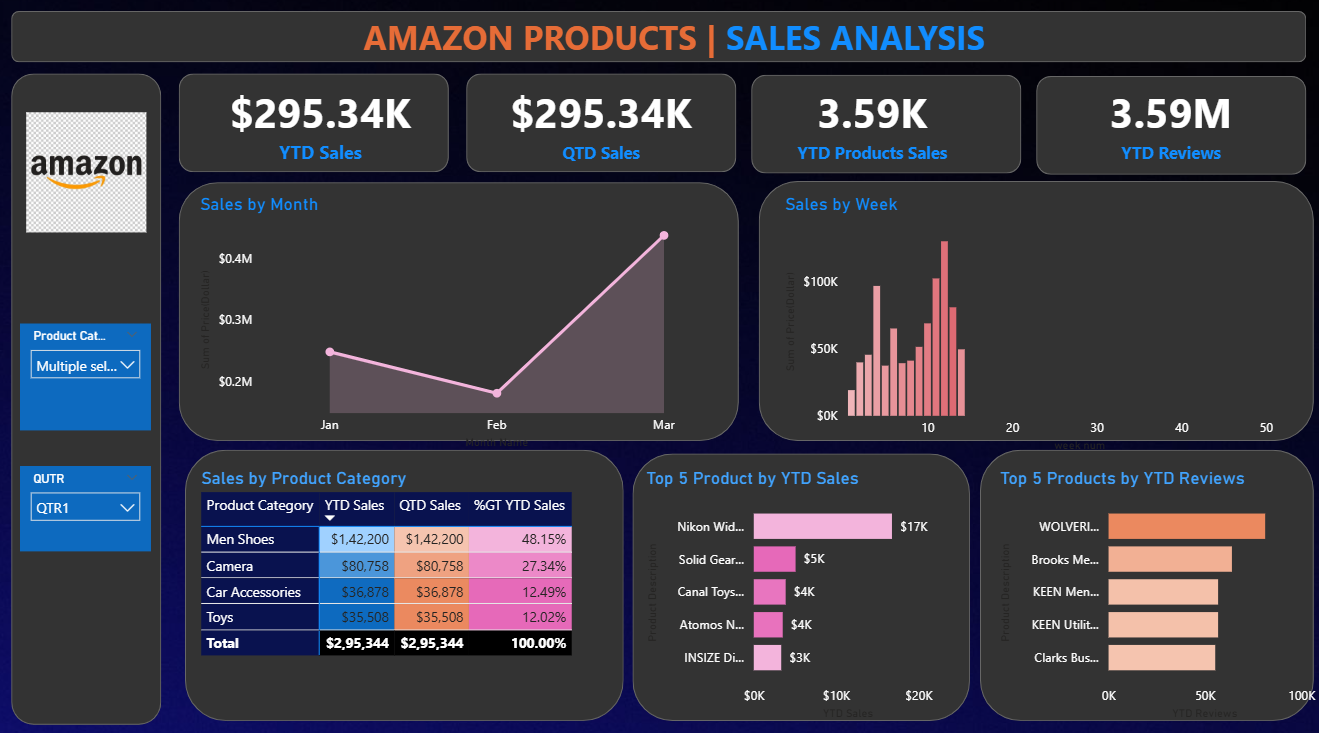

The dashboard page shown, as its layout file describes it:
{"tool":"powerbi","page":{"name":"Page 1","canvas":[1280,720],"ordinal":0},"visuals":[{"type":"shape","box":[15.7,14.5,1249.9,49.5],"z":0},{"type":"textbox","box":[334.2,13.3,643,54.3],"z":1000},{"type":"shape","box":[15.7,74.8,144.8,628.6],"z":2000},{"type":"shape","box":[177.3,74.8,260.6,95.3],"z":3000},{"type":"shape","box":[454.8,74.8,260.6,95.3],"z":4000},{"type":"shape","box":[729.9,76,260.6,95.3],"z":5000},{"type":"shape","box":[1005,77.2,260.6,95.3],"z":6000},{"type":"card","fields":{"Values":["Amazon_Data.YTD Sales"]},"box":[183.4,74.8,261.8,95.3],"z":7000},{"type":"card","fields":{"Values":["Amazon_Data.QTD Sales"]},"box":[454.8,74.8,260.6,95.3],"z":8000},{"type":"card","fields":{"Values":["Amazon_Data.YTD Products Sales"]},"box":[716.6,74.8,260.6,95.3],"z":9000},{"type":"card","fields":{"Values":["Amazon_Data.YTD Reviews"]},"box":[1005,74.8,260.6,95.3],"z":10000},{"type":"shape","box":[177.3,179.8,540.5,249.7],"z":11000},{"type":"shape","box":[737.1,178.6,535.7,250.9],"z":12000},{"type":"columnChart","title":"Sales by Week","fields":{"Category":["Date Table.week num"],"Y":["Sum(Amazon_Data.Price(Dollar))"]},"box":[757.6,190.6,522.4,254.6],"z":13000},{"type":"areaChart","title":"Sales by Month","fields":{"Category":["Date Table.Month Name"],"Y":["Sum(Amazon_Data.Price(Dollar))"]},"box":[193,190.6,522.4,250.9],"z":14000},{"type":"shape","box":[183.4,437.9,423.5,261.8],"z":15000},{"type":"pivotTable","title":"Sales by Product Category","fields":{"Rows":["Amazon_Data.Product Category"],"Values":["Amazon_Data.YTD Sales","Amazon_Data.QTD Sales","Divide(Amazon_Data.YTD Sales, ScopedEval(Amazon_Data.YTD Sales, []))"]},"box":[194.2,454.8,412.6,248.5],"z":16000},{"type":"shape","box":[615.3,441.6,325.7,258.2],"z":17000},{"type":"shape","box":[950.7,437.9,322.1,261.8],"z":18000},{"type":"clusteredBarChart","title":"Top 5 Product by YTD Sales ","fields":{"Category":["Amazon_Data.Product Description"],"Y":["Amazon_Data.YTD Sales"]},"box":[623.7,454.8,310.1,248.5],"z":19000},{"type":"clusteredBarChart","title":"Top 5 Products by YTD Reviews ","fields":{"Category":["Amazon_Data.Product Description"],"Y":["Amazon_Data.YTD Reviews"]},"box":[965.2,454.8,314.9,248.5],"z":20000},{"type":"slicer","fields":{"Values":["Amazon_Data.Product Category"]},"box":[24.7,315.6,126.2,102.9],"z":21000},{"type":"slicer","fields":{"Values":["Date Table.QUTR"]},"box":[24.7,454.2,126.2,82.3],"z":22000},{"type":"image","box":[20.5,112.2,135.1,115.8],"z":23000}]}

Visuals, with their boxes in screenshot pixels (x1, y1, x2, y2), scaled from the page's 1280x720 canvas onto the 1319x733 screenshot:
shape: [left=16, top=15, right=1304, bottom=65]
textbox: [left=344, top=14, right=1007, bottom=69]
shape: [left=16, top=76, right=165, bottom=716]
shape: [left=183, top=76, right=451, bottom=173]
shape: [left=469, top=76, right=737, bottom=173]
shape: [left=752, top=77, right=1021, bottom=174]
shape: [left=1036, top=79, right=1304, bottom=176]
card - Amazon_Data.YTD Sales: [left=189, top=76, right=459, bottom=173]
card - Amazon_Data.QTD Sales: [left=469, top=76, right=737, bottom=173]
card - Amazon_Data.YTD Products Sales: [left=738, top=76, right=1007, bottom=173]
card - Amazon_Data.YTD Reviews: [left=1036, top=76, right=1304, bottom=173]
shape: [left=183, top=183, right=740, bottom=437]
shape: [left=760, top=182, right=1312, bottom=437]
"Sales by Week" columnChart: [left=781, top=194, right=1318, bottom=453]
"Sales by Month" areaChart: [left=199, top=194, right=737, bottom=449]
shape: [left=189, top=446, right=625, bottom=712]
"Sales by Product Category" pivotTable: [left=200, top=463, right=625, bottom=716]
shape: [left=634, top=450, right=970, bottom=712]
shape: [left=980, top=446, right=1312, bottom=712]
"Top 5 Product by YTD Sales " clusteredBarChart: [left=643, top=463, right=962, bottom=716]
"Top 5 Products by YTD Reviews " clusteredBarChart: [left=995, top=463, right=1318, bottom=716]
slicer - Amazon_Data.Product Category: [left=25, top=321, right=155, bottom=426]
slicer - Date Table.QUTR: [left=25, top=462, right=155, bottom=546]
image: [left=21, top=114, right=160, bottom=232]
